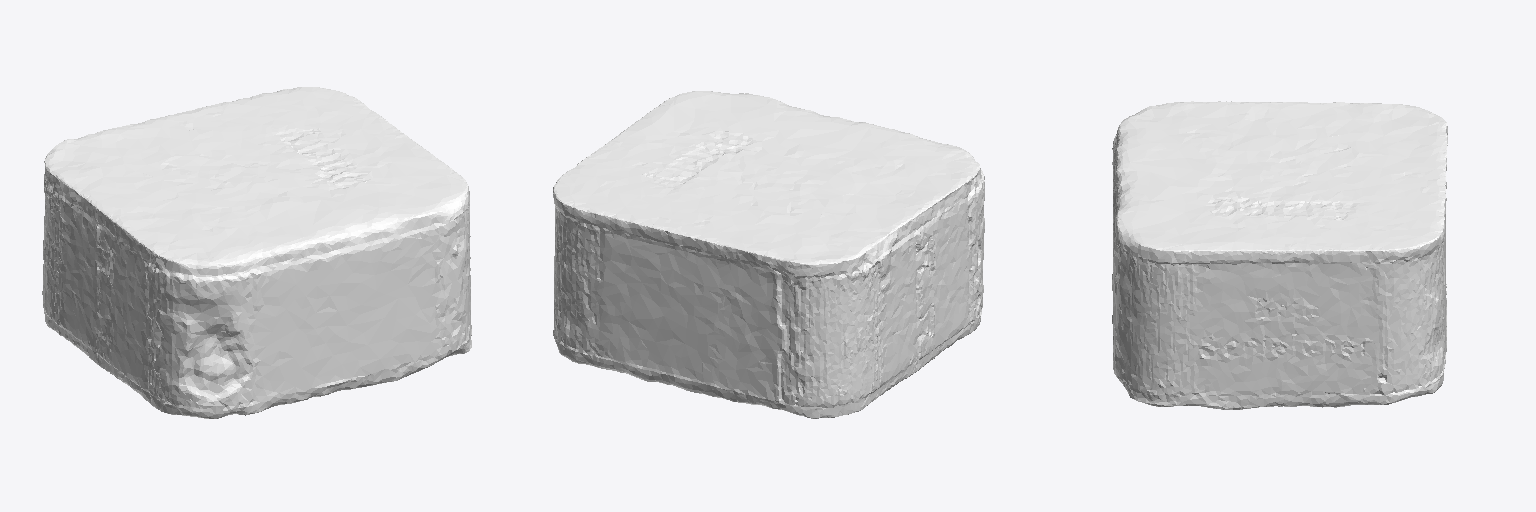
Rendered from business-card-box.obj.
3 renders of one model, left to right at view 1: azimuth 30°, elevation 25°; view 2: azimuth 150°, elevation 25°; view 3: azimuth 270°, elevation 25°, orthographic.
Size of the model in its own units: 14.06 by 6.99 by 13.03.